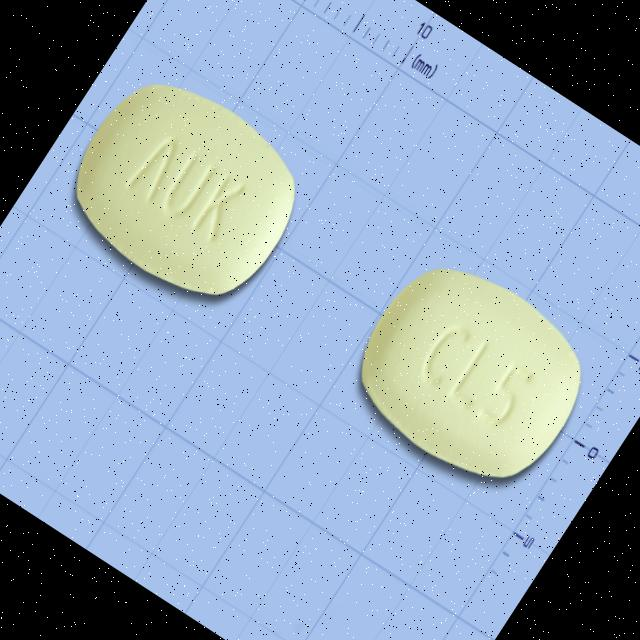Auscle: (39, 51, 329, 335), (328, 235, 616, 514)
